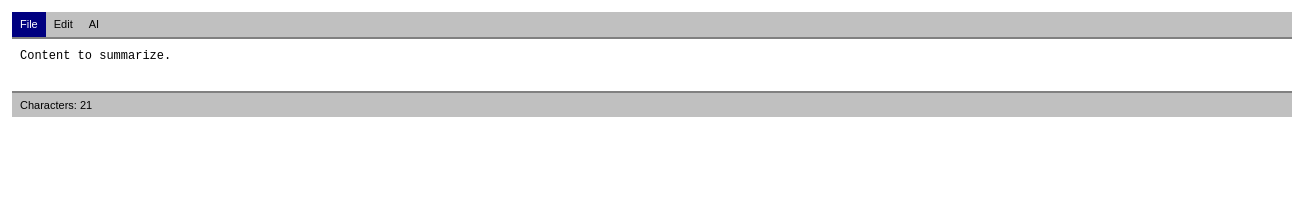
Notepad AI Integration › should allow closing summary panel
// Generate summary
Step 1. Click the button "AI" → (94, 24), box [81,12,107,36]
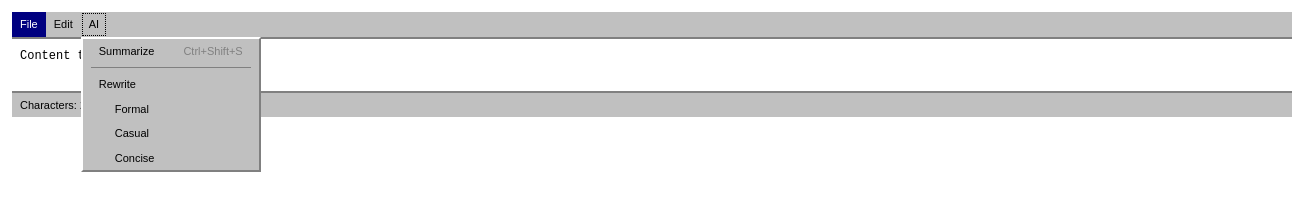
Step 2. Click the text "Summarize" → (126, 51), box [99,42,154,59]
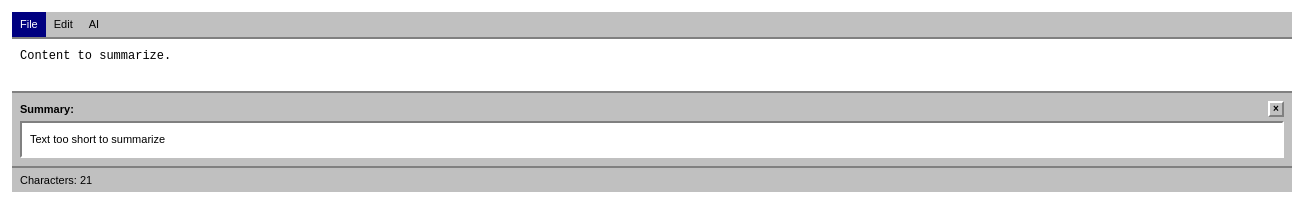
Check: the text "Summary:" is shown, box [20,100,74,117]
// Click close button
Step 3. Click the button named "Close summary" → (1276, 109), box [1268,101,1284,117]
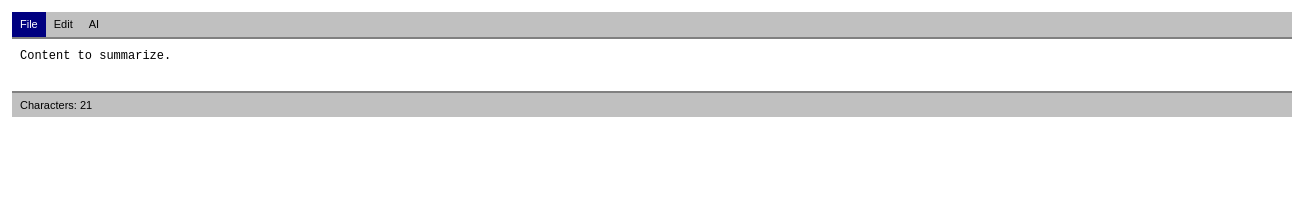
Check: the text "Summary:" is gone
